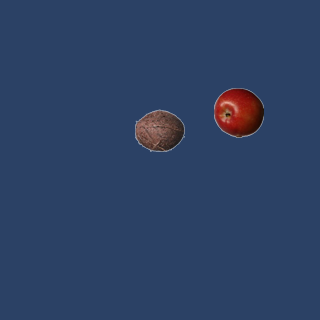Apple Braeburn: (213, 87, 263, 137)
Cocos: (134, 105, 184, 155)
